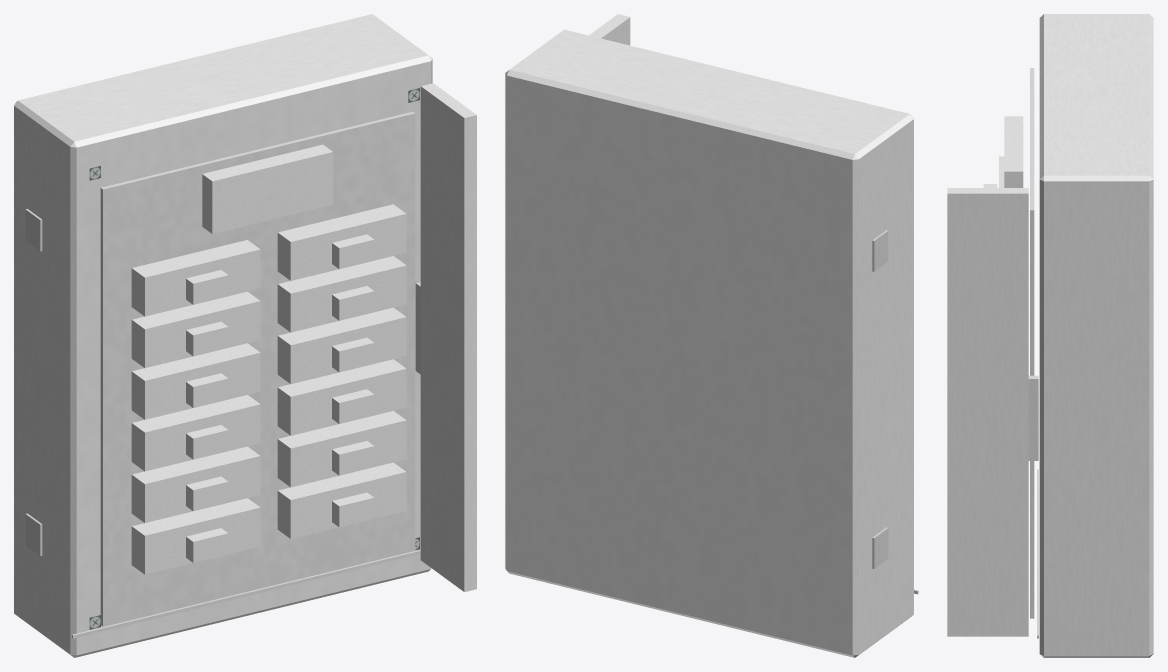
Rendered from twelvecircuitpanel.obj.
3 views of the same model, side by side, from view 1: azimuth 30°, elevation 25°; view 2: azimuth 150°, elevation 25°; view 3: azimuth 270°, elevation 25° (orthographic). The views are drawn at different scales.
Visible parts, largest first — view 1: Case, Black, Door, Main, Breaker1, Breaker0, Breaker10, Breaker4, Breaker7, Breaker9, Breaker3, Breaker6 (+16 smaller); view 2: Case, Door; view 3: Case, Door, Black, Main.
Part boxes in pixels (x1,y1,x2,y2): Case: (14,14,432,657); Black: (100,111,415,626); Door: (420,83,476,591); Main: (202,144,333,233); Breaker1: (277,204,406,280); Breaker0: (131,240,260,316); Breaker10: (131,498,260,574); Breaker4: (131,343,260,419); Breaker7: (277,359,406,435); Breaker9: (277,411,406,487); Breaker3: (277,256,406,332); Breaker6: (131,395,260,471); Case: (505,29,918,657); Door: (589,14,630,45); Case: (1028,14,1153,657); Door: (947,188,1028,636); Black: (1030,68,1034,618); Main: (1004,116,1023,187).
Bounding box in the file's own units: 0.726 × 0.99 × 0.38.
